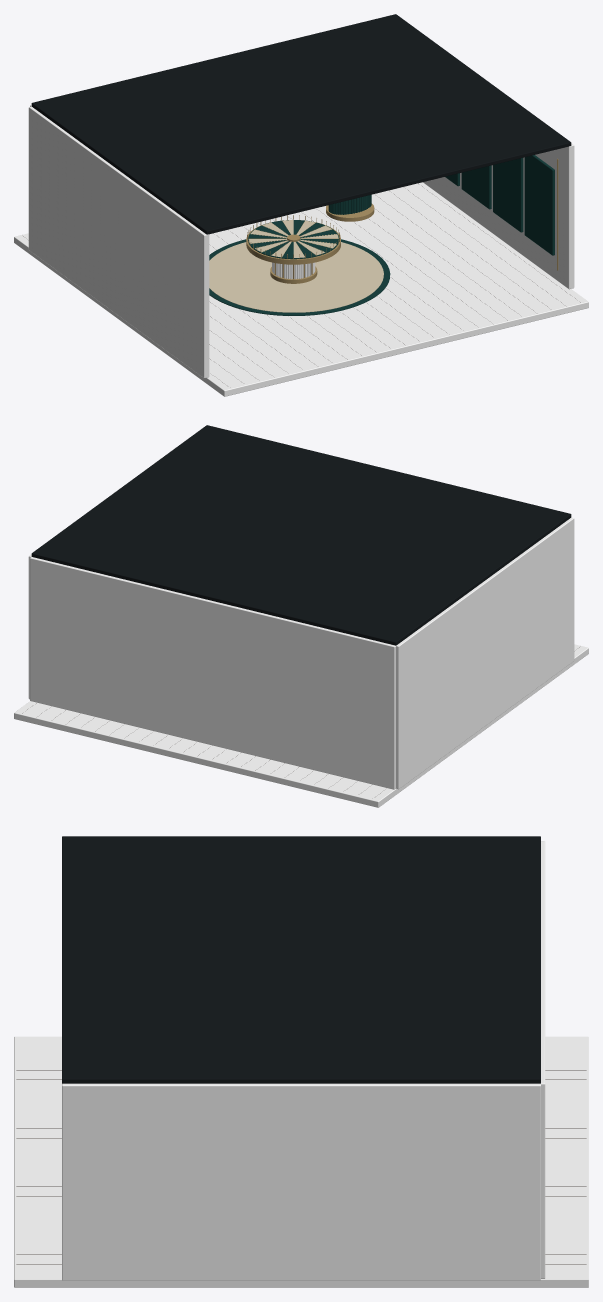
File: Studio_v4_lite.glb
3 views of the same model, one above another, from view 1: azimuth 30°, elevation 25°; view 2: azimuth 150°, elevation 25°; view 3: azimuth 270°, elevation 25° (orthographic). The views are drawn at different scales.
Parts seen in each view (by area): view 1: Ceiling, Floor, Side_wall_-1, Rug_inset, Side_wall_1, Upholstered_panel_1_4, Upholstered_panel_1_3, Rug_border, Upholstered_panel_1_2, Wheel_rim; view 2: Ceiling, Rear_wall, Side_wall_-1, Floor; view 3: Ceiling, Side_wall_1, Floor, Rear_wall.
Boxes of the visible parts, x1,y1,x2,y2 form: Ceiling: (31, 14, 571, 234); Floor: (14, 182, 588, 396); Side_wall_-1: (28, 106, 209, 378); Rug_inset: (209, 242, 383, 312); Side_wall_1: (423, 143, 574, 289); Upholstered_panel_1_4: (524, 155, 554, 255); Upholstered_panel_1_3: (493, 158, 523, 232); Rug_border: (209, 239, 390, 315); Upholstered_panel_1_2: (461, 165, 491, 209); Wheel_rim: (246, 221, 340, 264); Ceiling: (31, 425, 571, 645); Rear_wall: (30, 557, 395, 789); Side_wall_-1: (396, 517, 574, 789); Floor: (14, 644, 588, 807); Ceiling: (62, 836, 540, 1083); Side_wall_1: (62, 1083, 540, 1280); Floor: (14, 1036, 588, 1287); Rear_wall: (541, 841, 545, 1278).
Size of the model in its own units: 12.18 by 4.81 by 12.
